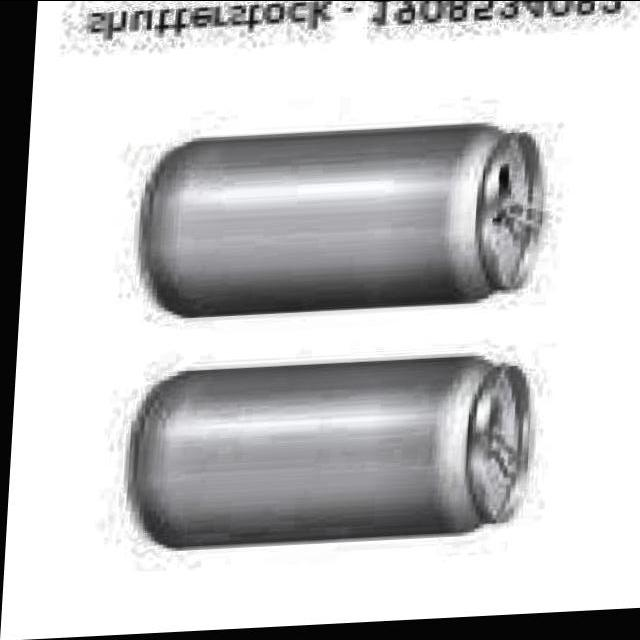litter: (122, 119, 556, 334), (116, 350, 546, 558)
